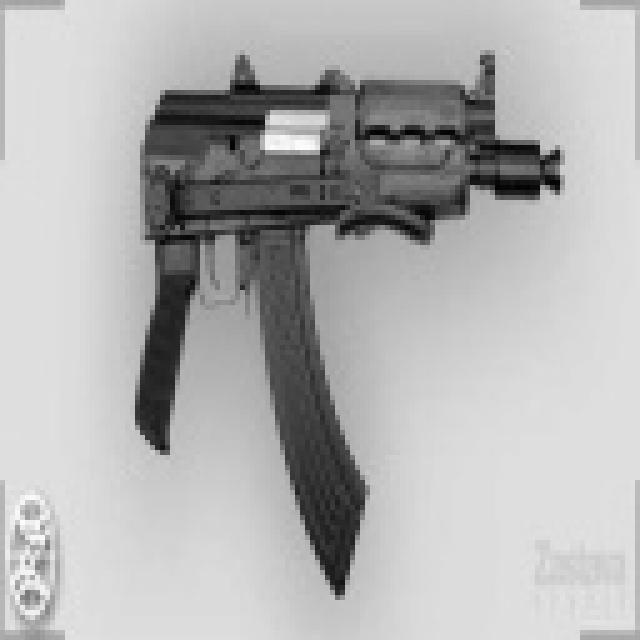Rifle: (0, 0, 605, 610)
